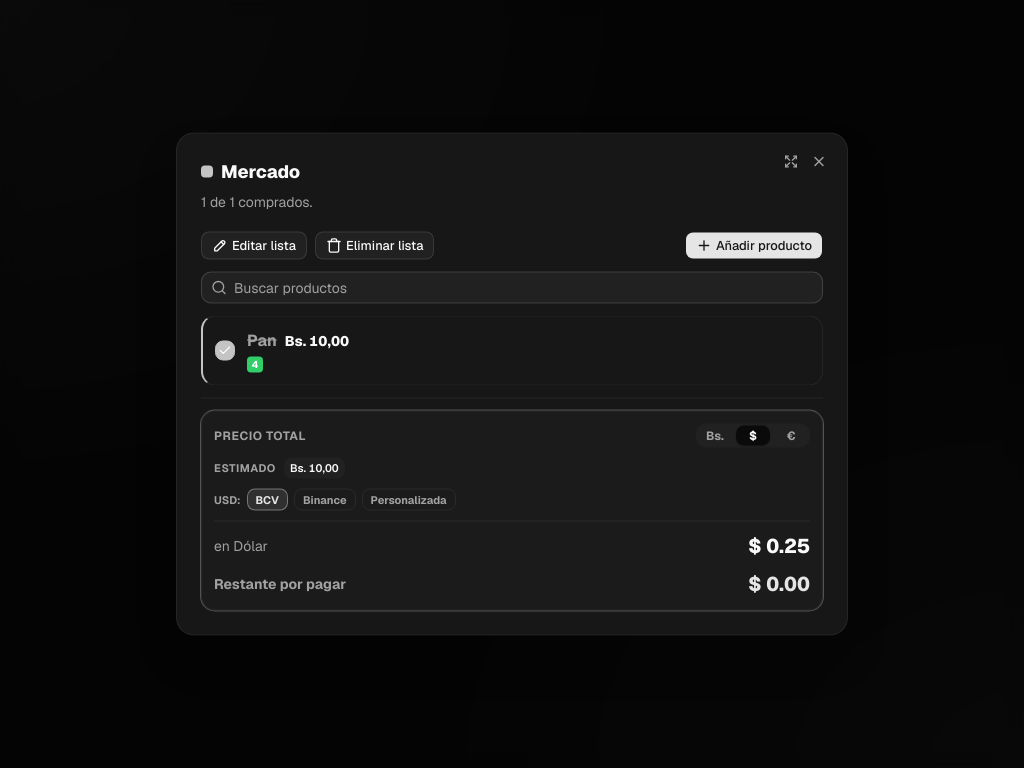
ShoppingListDetailDialog — deshacer una compra › «Cancelar» no deshace nada
This screenshot has width=1024, height=768.
Click the button named "Marcar como no comprado".
click(225, 350)  # box [215,340,235,360]
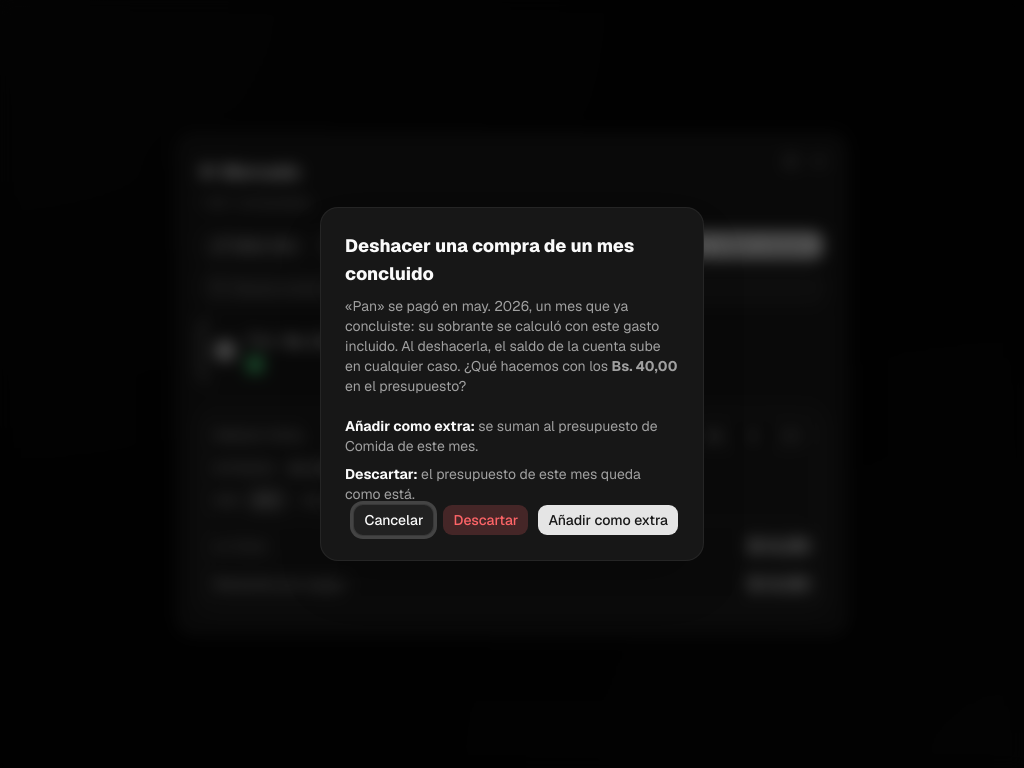
Expected: the heading "Deshacer una compra de un mes concluido" is shown, [345,232,679,288]
Click the button "Cancelar".
click(394, 520)  # box [354,504,434,536]
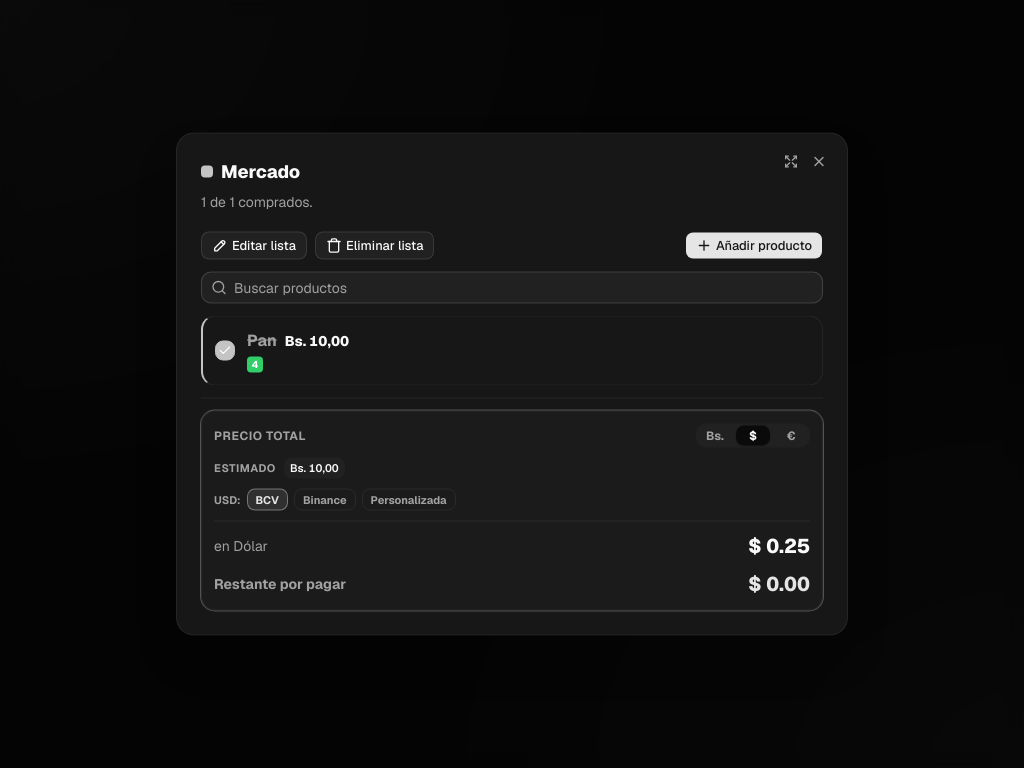
Expected: the heading "Deshacer una compra de un mes concluido" is gone
